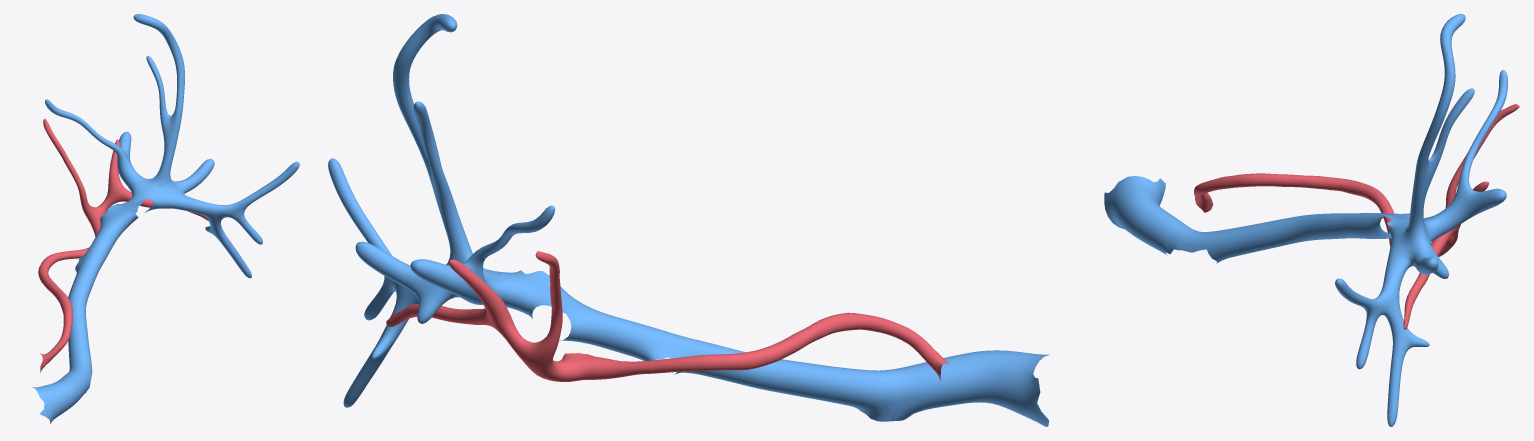
The model's file is VH_M_Blood_Vasculature_Spleen.glb.
3 renders of one model, left to right at view 1: azimuth 30°, elevation 25°; view 2: azimuth 150°, elevation 25°; view 3: azimuth 270°, elevation 25°, orthographic. The views are drawn at different scales.
Parts seen in each view (by area): view 1: VH_M_splenic_vein, VH_M_splenic_artery; view 2: VH_M_splenic_vein, VH_M_splenic_artery; view 3: VH_M_splenic_vein, VH_M_splenic_artery.
Boxes of the visible parts, bbox=[...] form: VH_M_splenic_vein: bbox=[32, 14, 299, 423]; VH_M_splenic_artery: bbox=[38, 118, 208, 372]; VH_M_splenic_vein: bbox=[328, 14, 1049, 426]; VH_M_splenic_artery: bbox=[386, 251, 949, 381]; VH_M_splenic_vein: bbox=[1104, 14, 1507, 426]; VH_M_splenic_artery: bbox=[1194, 104, 1519, 329].
Size of the model in its own units: 0.1245 by 0.0908 by 0.0951.
